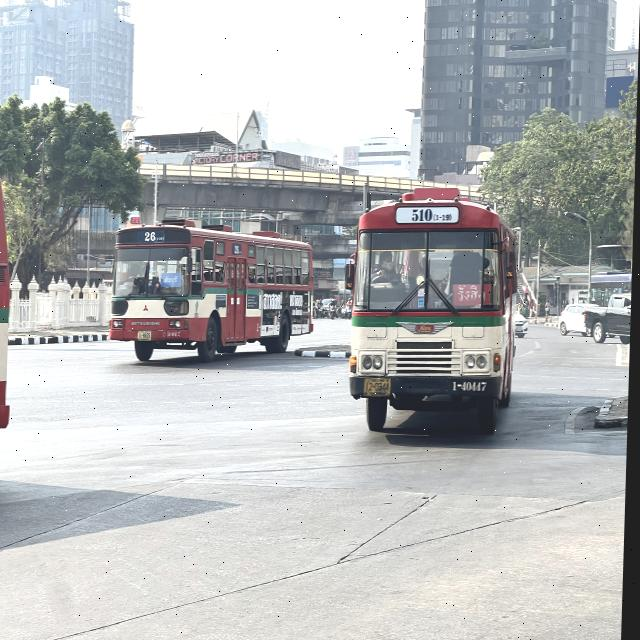BMTA-bus: (348, 186, 523, 434), (110, 220, 319, 365), (0, 173, 16, 435)
Bus-Line-Number: (409, 203, 457, 223), (141, 228, 167, 242)
Destination-Sign-Extra-Bus: (455, 282, 495, 306)
Destination-Sign-Normal: (163, 273, 182, 288)
